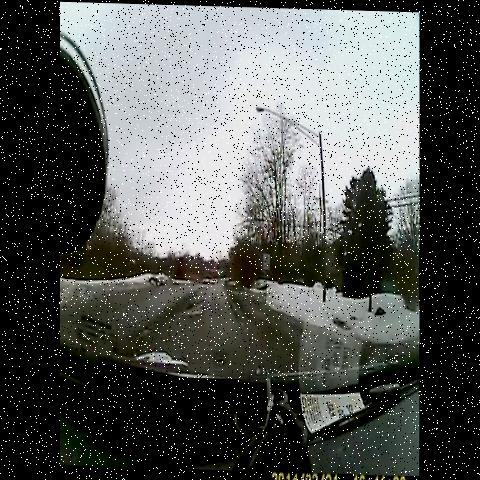pothole: (223, 291, 253, 341), (131, 310, 163, 347), (180, 288, 212, 321), (211, 346, 229, 372)
